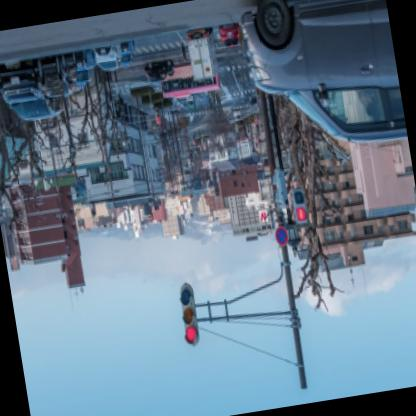trafficlight: (178, 284, 205, 350), (292, 190, 310, 226)
